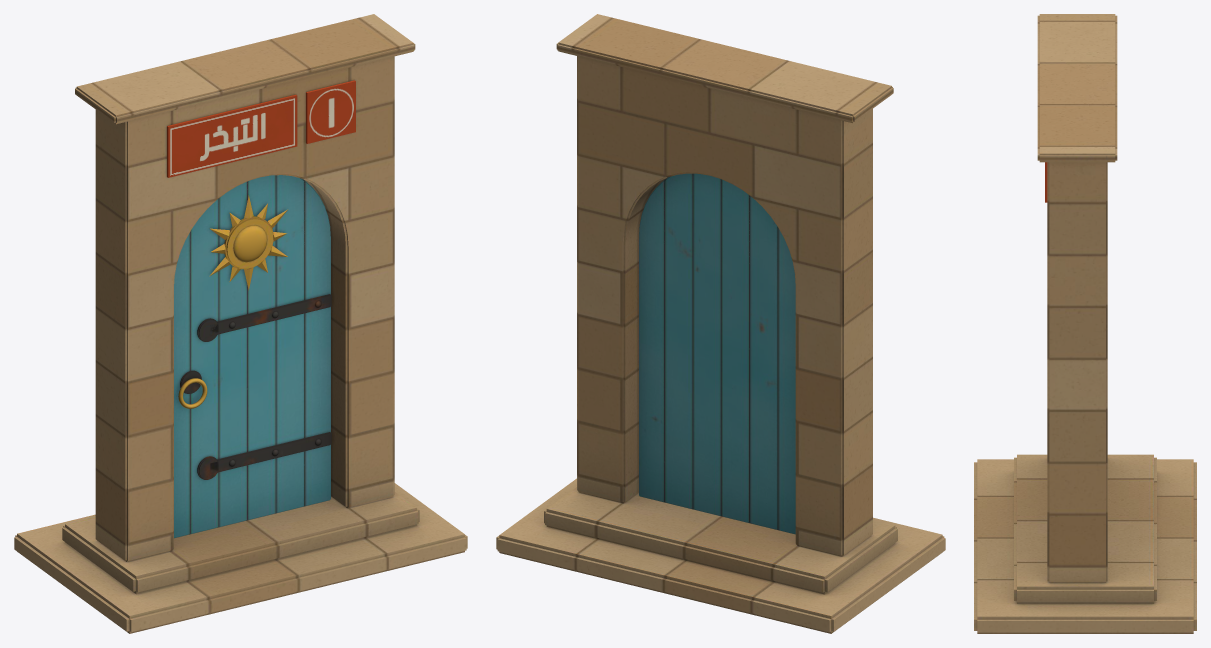
File: door-evaporation.glb
The picture shows the model from 3 angles, left to right: view 1: azimuth 30°, elevation 25°; view 2: azimuth 150°, elevation 25°; view 3: azimuth 270°, elevation 25°; orthographic projection. The views are drawn at different scales.
Visible parts, largest first — view 1: frame, leaf, sign; view 2: frame, leaf; view 3: frame.
Boxes of the visible parts, left/top/right/bottom form: frame: left=14, top=14, right=467, bottom=633; leaf: left=174, top=175, right=331, bottom=537; sign: left=167, top=80, right=355, bottom=177; frame: left=496, top=14, right=945, bottom=633; leaf: left=639, top=173, right=795, bottom=534; frame: left=974, top=14, right=1196, bottom=633.
Size of the model in its own units: 2.38 by 3.27 by 1.4.
2 materials, 2 textured.
